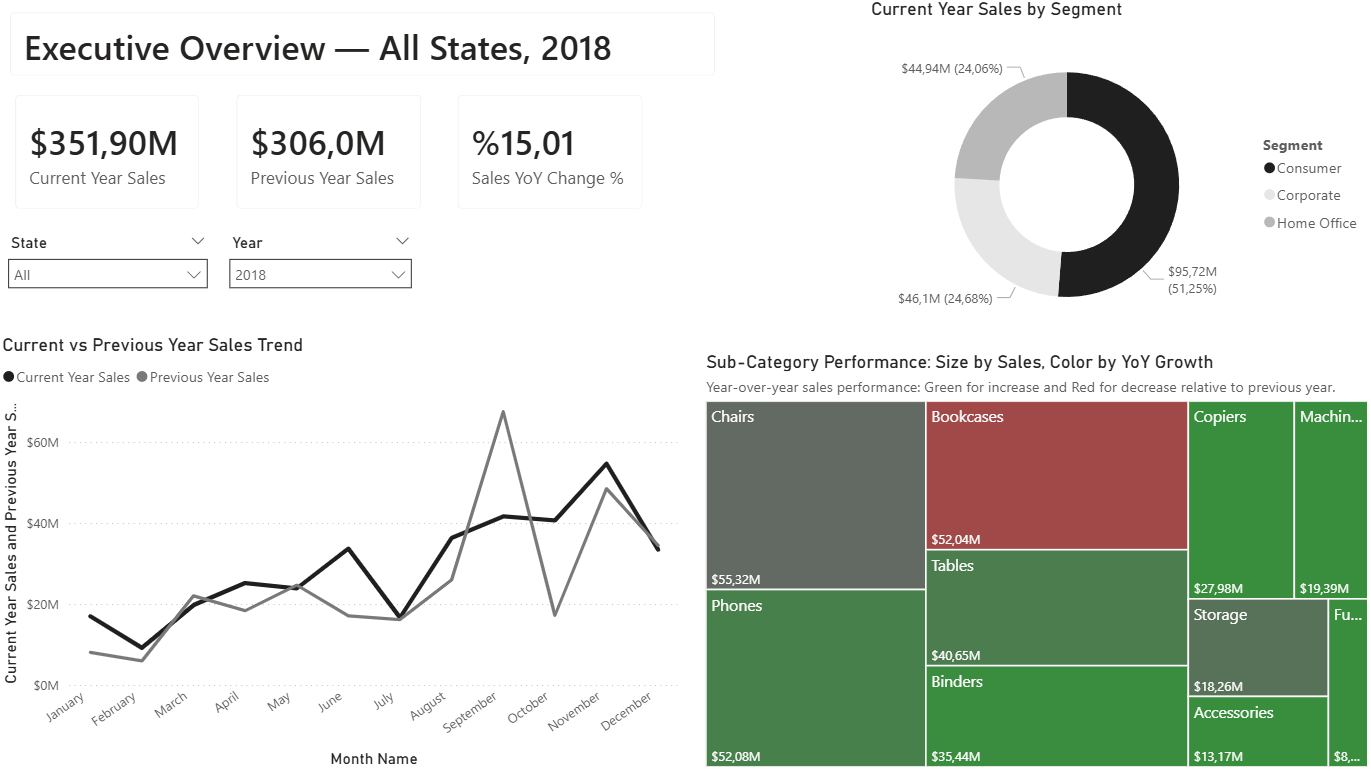

The dashboard page shown, as its layout file describes it:
{"tool":"powerbi","page":{"name":"Executive Overview","canvas":[1280,720],"ordinal":0},"visuals":[{"type":"lineChart","title":"Current vs Previous Year Sales Trend","fields":{"Category":["Dim_Date.Month Name"],"Y":["_Measures.Current Year Sales","_Measures.Previous Year Sales"]},"box":[0,312.2,639.4,408],"z":0},{"type":"cardVisual","fields":{"Data":["_Measures.Current Year Sales"]},"box":[0,73.4,205.3,140.6],"z":1000},{"type":"donutChart","title":"Current Year Sales by Segment","fields":{"Y":["_Measures.Current Year Sales"],"Category":["Dim_Customer.Segment"]},"box":[808.6,0,471.5,328.4],"z":2000},{"type":"cardVisual","fields":{"Data":["_Measures.Sales Last Year"]},"box":[205.3,73.4,206.5,140.6],"z":3000},{"type":"treemap","title":"Sub-Category Performance: Size by Sales, Color by YoY Growth","fields":{"Group":["Dim_Product.Sub-Category"],"Values":["_Measures.Total Sales"]},"box":[654.3,328.4,625.7,391.8],"z":4000},{"type":"cardVisual","fields":{"Data":["_Measures.Sales YoY Change %"]},"box":[411.8,73.4,206.5,140.6],"z":5000},{"type":"slicer","fields":{"Values":["Dim_Date.Year"]},"box":[205.3,214,190.3,64.7],"z":6000},{"type":"slicer","fields":{"Values":["Dİm_Customer.State"]},"box":[0,214,205.8,65.9],"z":7000},{"type":"cardVisual","fields":{"Data":["_Measures.Dashboard Title"]},"box":[0,1.2,685.4,83.3],"z":8000}]}

Visuals, with their boxes in screenshot pixels (x1, y1, x2, y2), scaled from the page's 1280x720 canvas onto the 1371x771 screenshot:
"Current vs Previous Year Sales Trend" lineChart: [left=0, top=334, right=685, bottom=770]
cardVisual - _Measures.Current Year Sales: [left=0, top=79, right=220, bottom=229]
"Current Year Sales by Segment" donutChart: [left=866, top=0, right=1370, bottom=352]
cardVisual - _Measures.Sales Last Year: [left=220, top=79, right=441, bottom=229]
"Sub-Category Performance: Size by Sales, Color by YoY Growth" treemap: [left=701, top=352, right=1370, bottom=770]
cardVisual - _Measures.Sales YoY Change %: [left=441, top=79, right=662, bottom=229]
slicer - Dim_Date.Year: [left=220, top=229, right=424, bottom=298]
slicer - Dİm_Customer.State: [left=0, top=229, right=220, bottom=300]
cardVisual - _Measures.Dashboard Title: [left=0, top=1, right=734, bottom=90]
